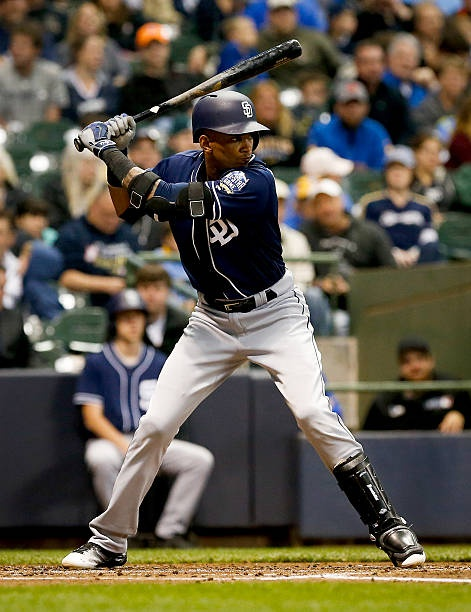bita: (93, 41, 310, 139)
